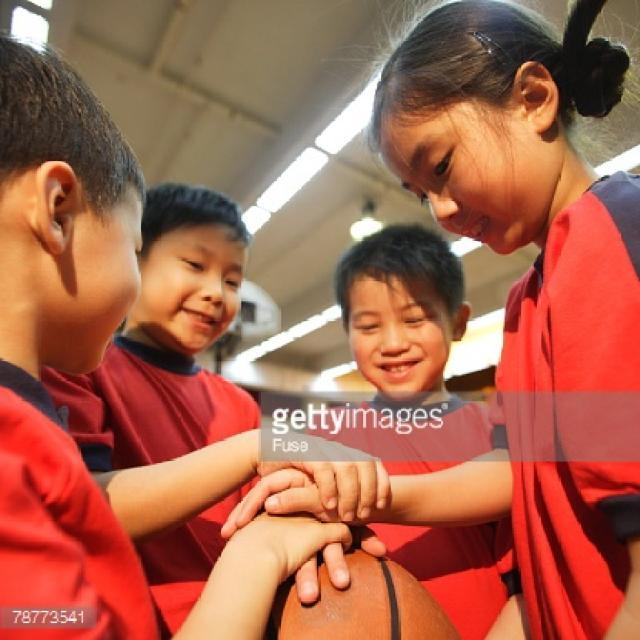body: (216, 0, 638, 638), (0, 31, 383, 640), (34, 175, 392, 640), (282, 220, 532, 640)
